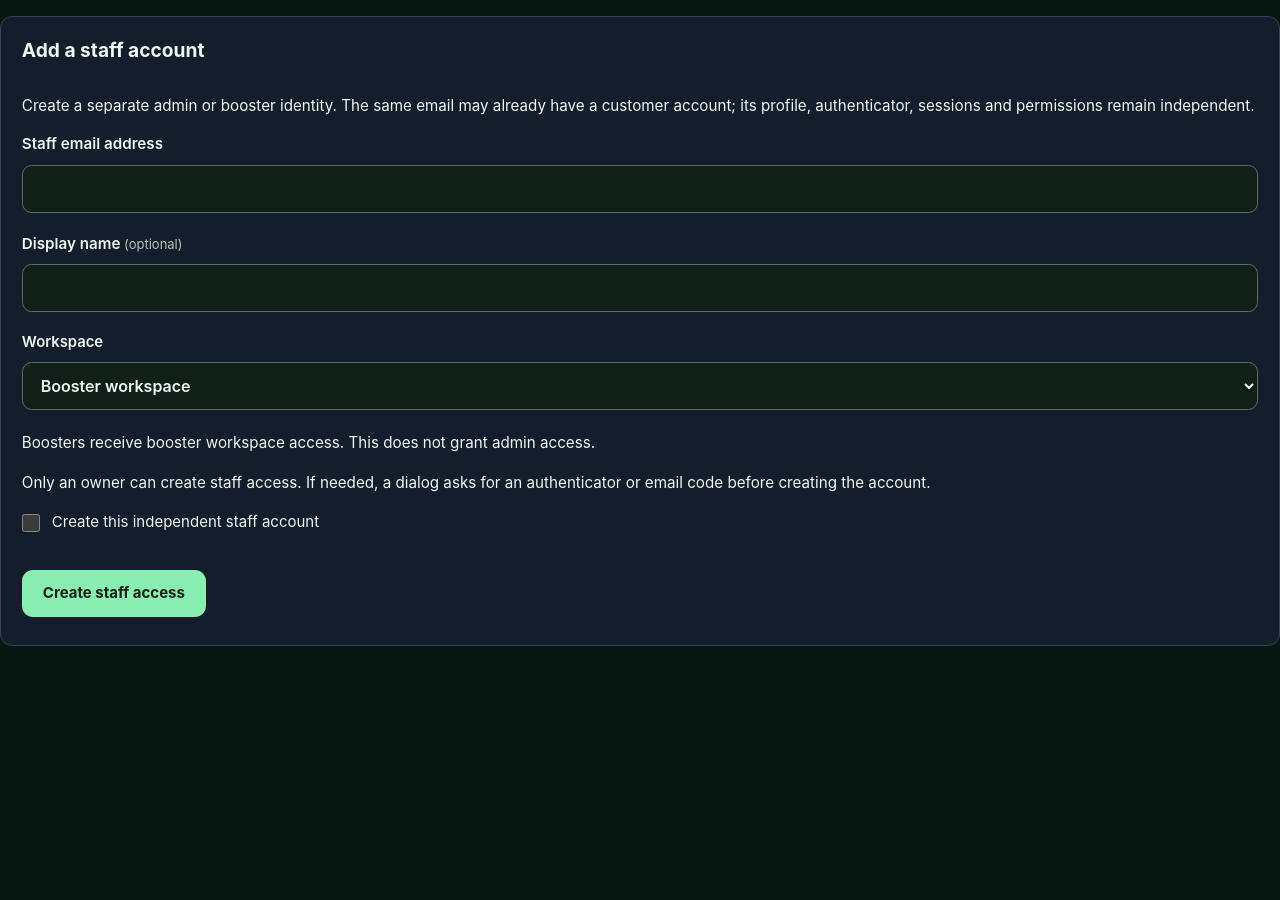
rejects a response for another realm without showing successful access
This screenshot has width=1280, height=900.
Type "same@example.test" into the field labelled "Staff email address" at {"x": 640, "y": 189}, box [22,165,1258,213]
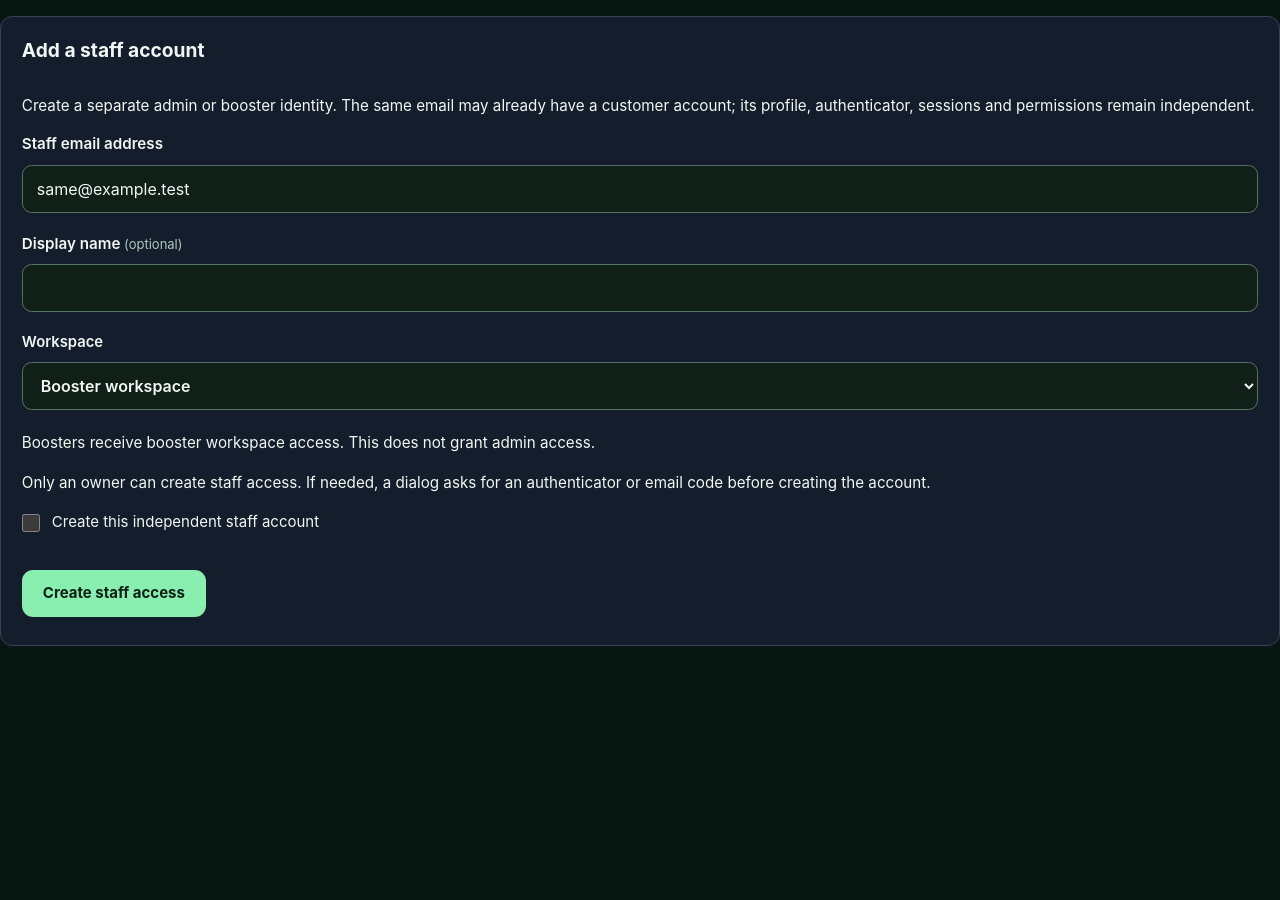
Type "New staff" into the field labelled "Display name (optional)" at {"x": 640, "y": 288}, box [22,264,1258,312]
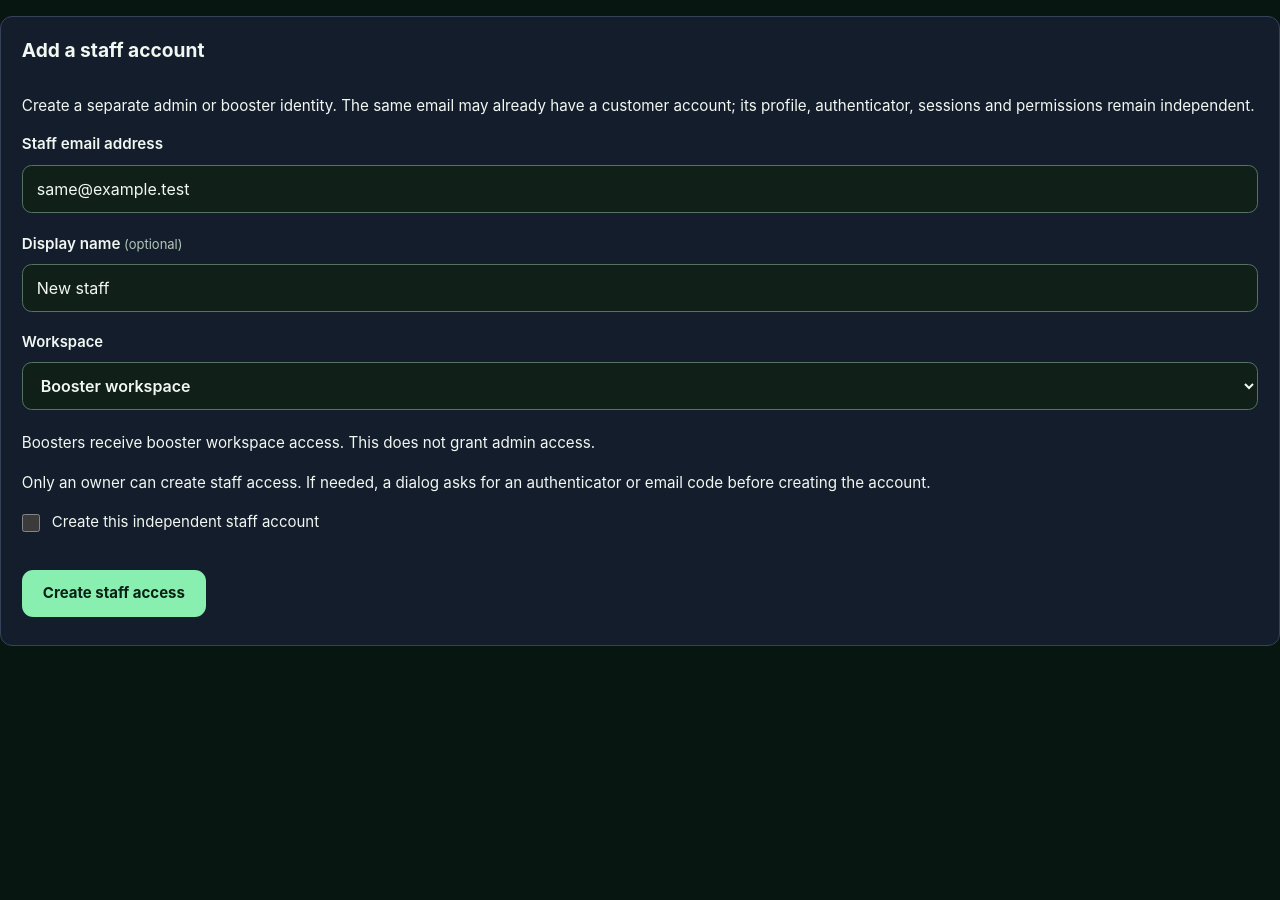
Select "Booster workspace" in the dropdown labelled "Workspace" at {"x": 640, "y": 386}, box [22,362,1258,410]
Click the checkbox at {"x": 31, "y": 522}, box [22,514,40,532]
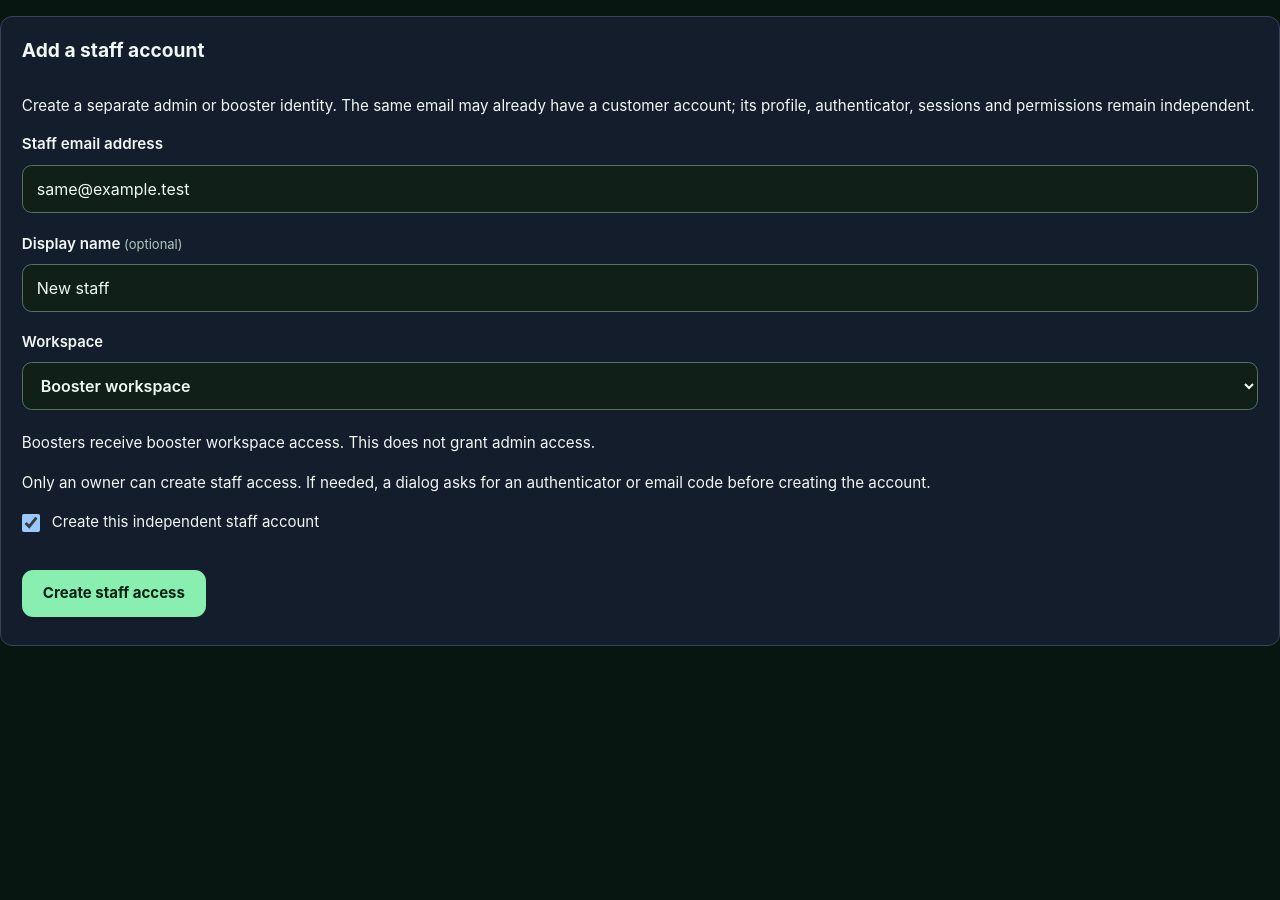
Submit the form named "Create staff access"
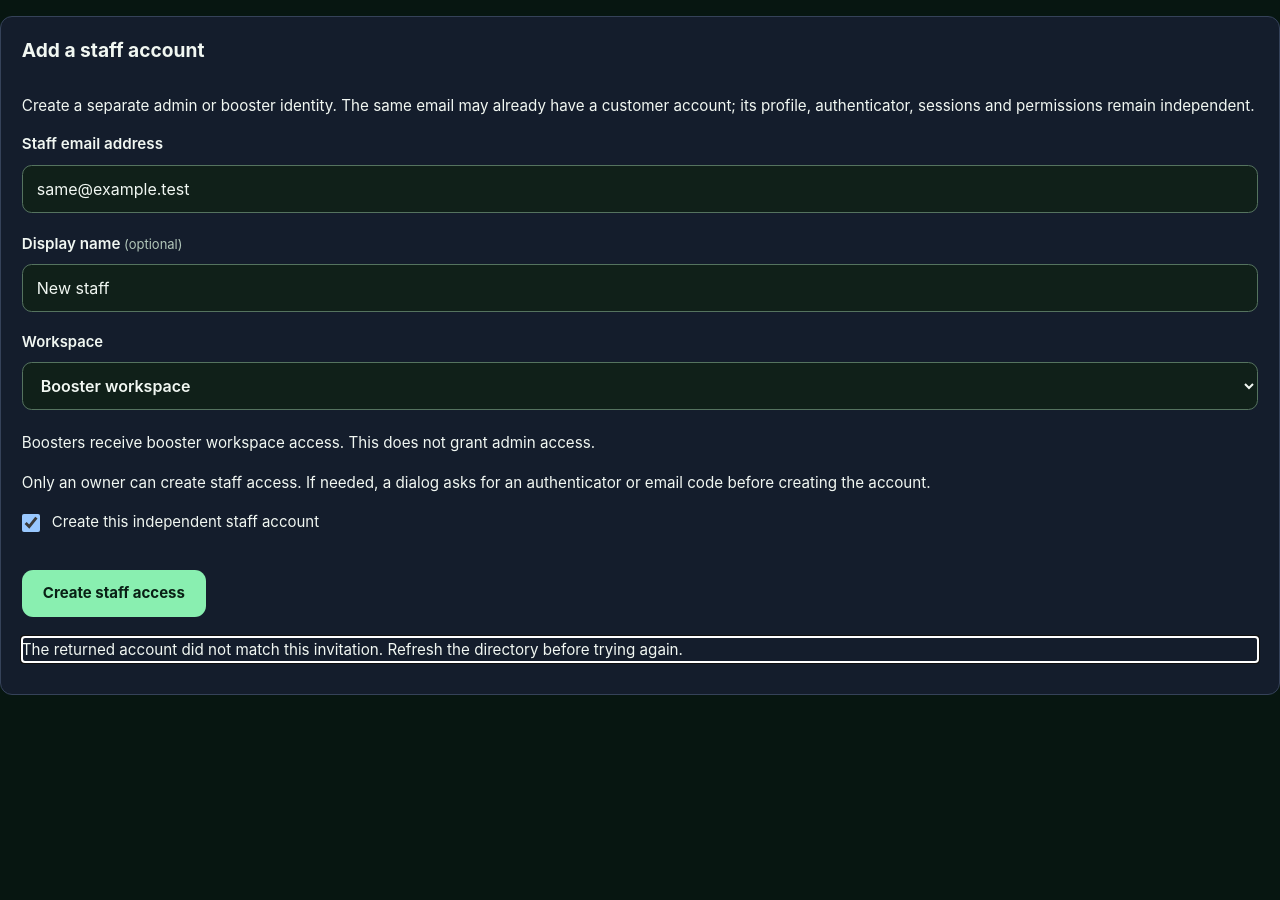
Expected: the message shows "did not match this invitation", [22,640,683,659]
